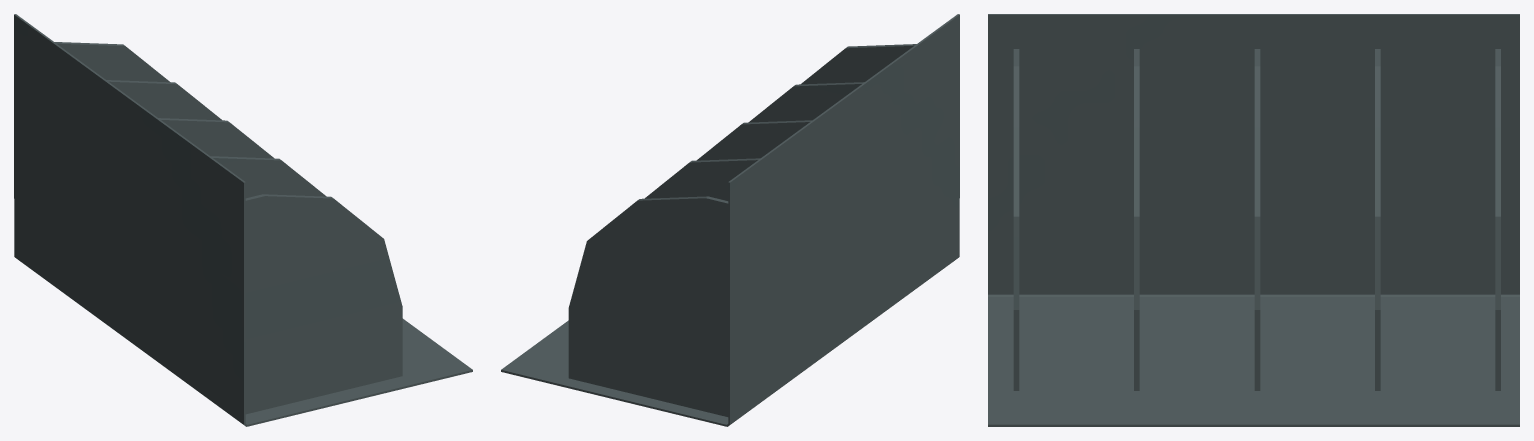
The model's file is rangement bureau.fbx.
The picture shows the model from 3 angles, left to right: view 1: azimuth 30°, elevation 25°; view 2: azimuth 150°, elevation 25°; view 3: azimuth 270°, elevation 25°; orthographic projection. The views are drawn at different scales.
Visible parts, largest first — view 1: Plane.002; view 2: Plane.002; view 3: Plane.002.
Boxes of the visible parts, left/top/right/bottom form: Plane.002: left=14, top=14, right=472, bottom=426; Plane.002: left=501, top=14, right=959, bottom=426; Plane.002: left=988, top=14, right=1519, bottom=426.
Size of the model in its own units: 39.93 by 69.37 by 40.82.
